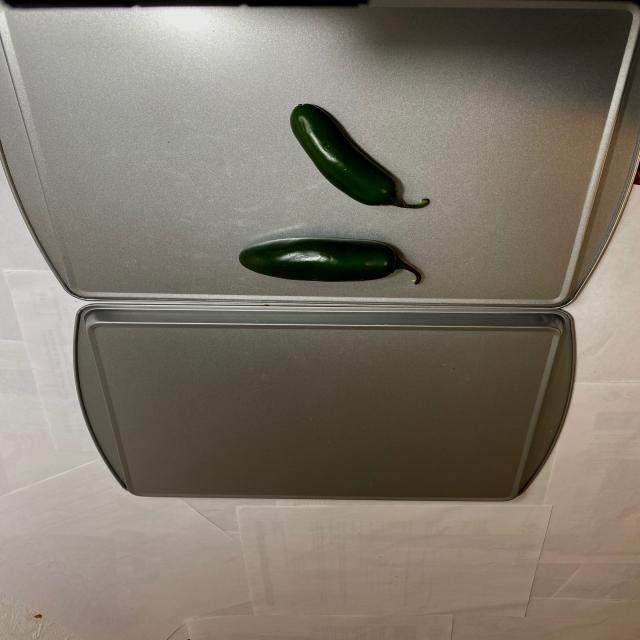chilli: (235, 100, 441, 282)
